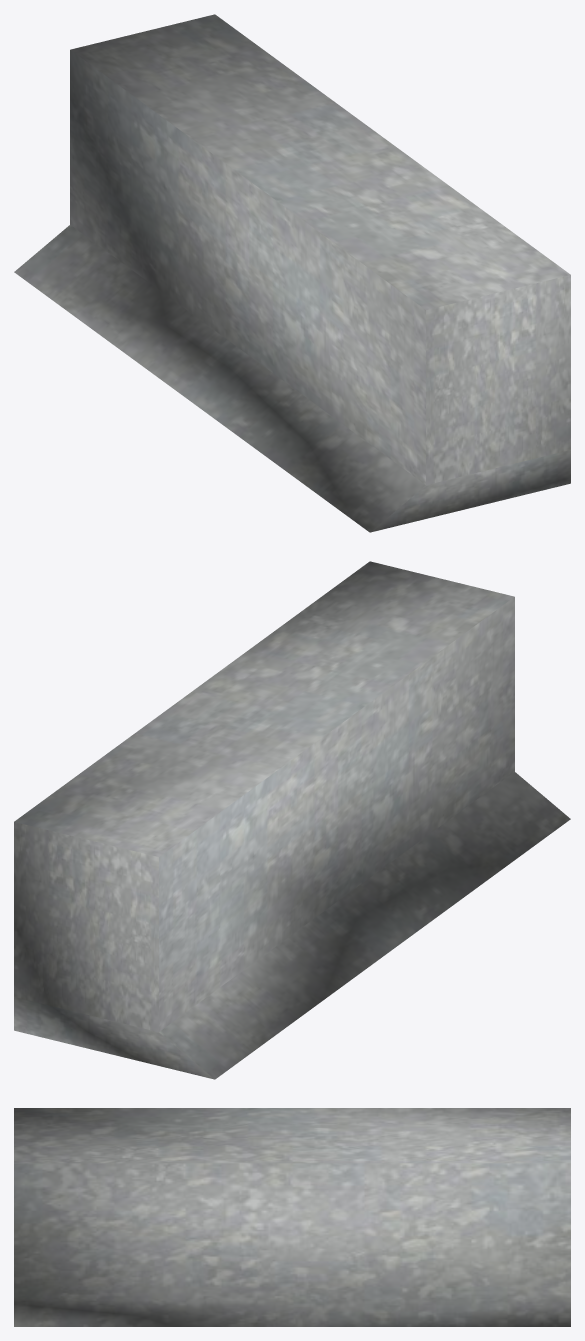
The model's file is Hood.fbx.
The picture shows the model from 3 angles, top to bottom: view 1: azimuth 30°, elevation 25°; view 2: azimuth 150°, elevation 25°; view 3: azimuth 270°, elevation 25°; orthographic projection. The views are drawn at different scales.
Parts seen in each view (by area): view 1: kitchen_hood.001; view 2: kitchen_hood.001; view 3: kitchen_hood.001.
Boxes of the visible parts, x1=… form: kitchen_hood.001: x1=14, y1=14, x2=570, y2=532; kitchen_hood.001: x1=14, y1=561, x2=570, y2=1079; kitchen_hood.001: x1=14, y1=1108, x2=570, y2=1326.
Bounding box in the file's own units: 122 × 121 × 374.
